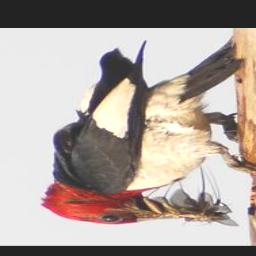Woodpecker: (42, 38, 256, 225)
